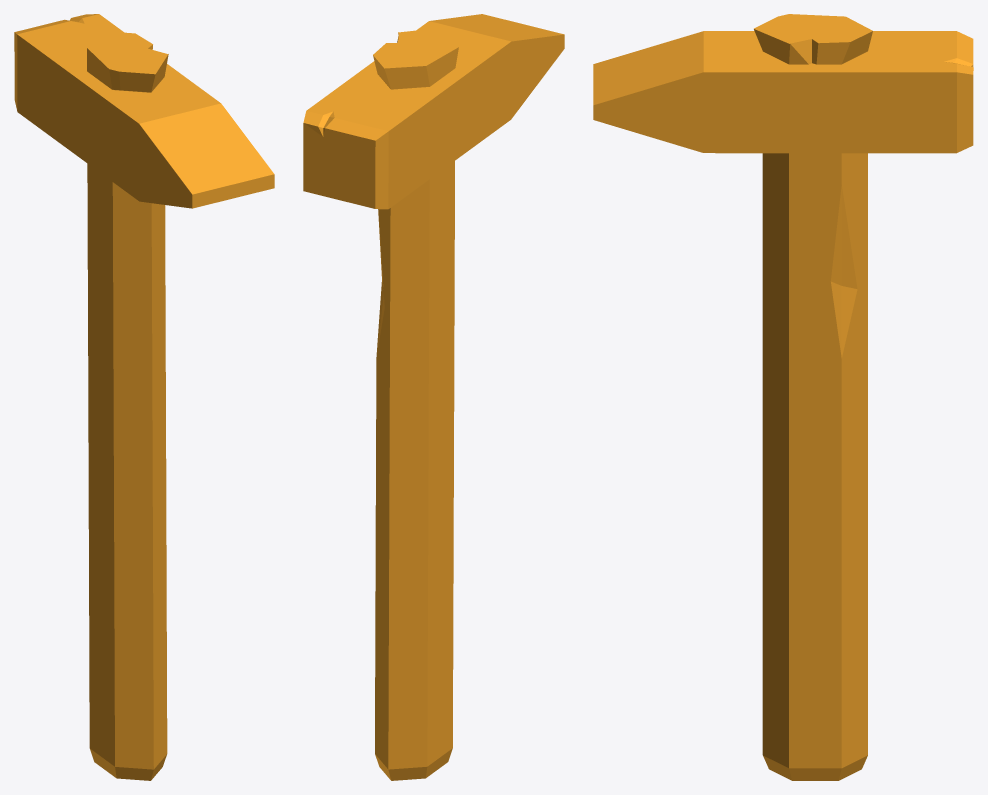
The model's file is SM_Hammer_Blacksmith_E.fbx.
3 views of the same model, side by side, from view 1: azimuth 30°, elevation 25°; view 2: azimuth 150°, elevation 25°; view 3: azimuth 270°, elevation 25° (orthographic). The views are drawn at different scales.
Parts seen in each view (by area): view 1: hammer-blacksmith-e; view 2: hammer-blacksmith-e; view 3: hammer-blacksmith-e.
Boxes of the visible parts, x1,y1,x2,y2 form: hammer-blacksmith-e: (14,14,274,780); hammer-blacksmith-e: (303,14,564,780); hammer-blacksmith-e: (593,14,973,780).
Size of the model in its own units: 0.047 by 0.3885 by 0.1811.
